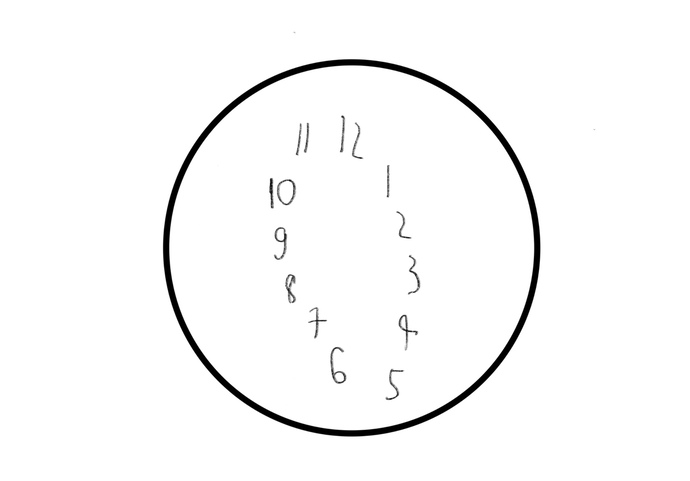eight: (282, 273, 300, 308)
eleven: (292, 116, 313, 158)
five: (380, 363, 406, 406)
four: (398, 311, 421, 353)
nine: (269, 224, 291, 267)
one: (380, 157, 397, 202)
seven: (305, 303, 327, 340)
six: (328, 342, 351, 389)
ten: (265, 174, 300, 214)
three: (405, 251, 424, 298)
twelve: (336, 112, 366, 166)
two: (392, 208, 414, 245)
